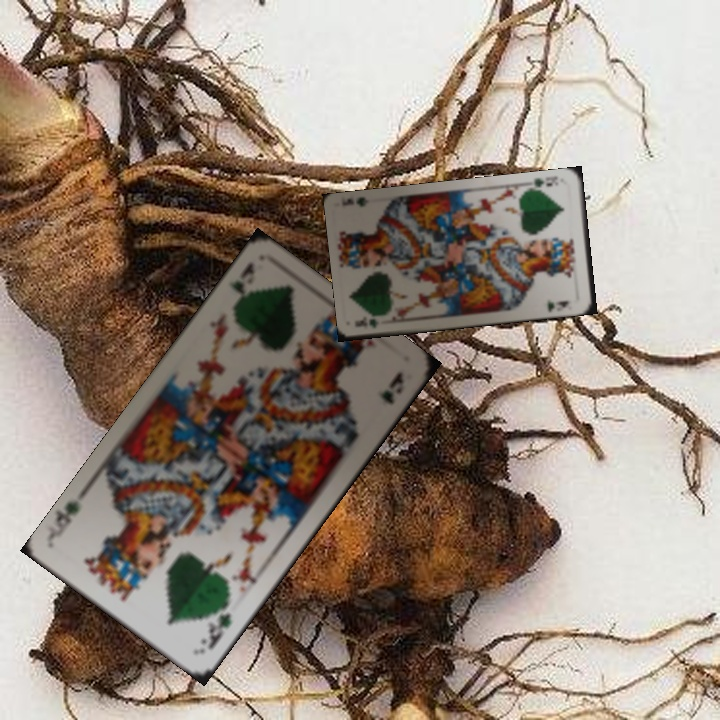GK: (196, 597, 235, 653), (226, 258, 257, 315), (526, 172, 560, 193), (351, 315, 382, 331)
